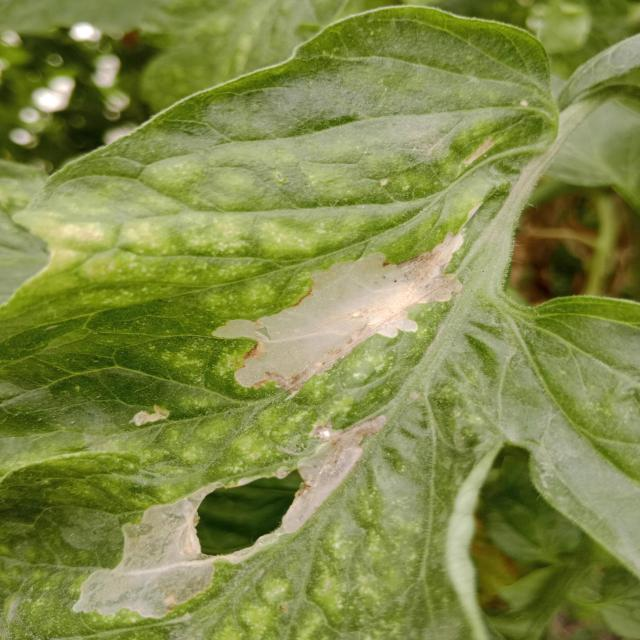Tuta absoluta: (54, 378, 414, 640), (209, 202, 491, 417), (127, 402, 171, 428)
